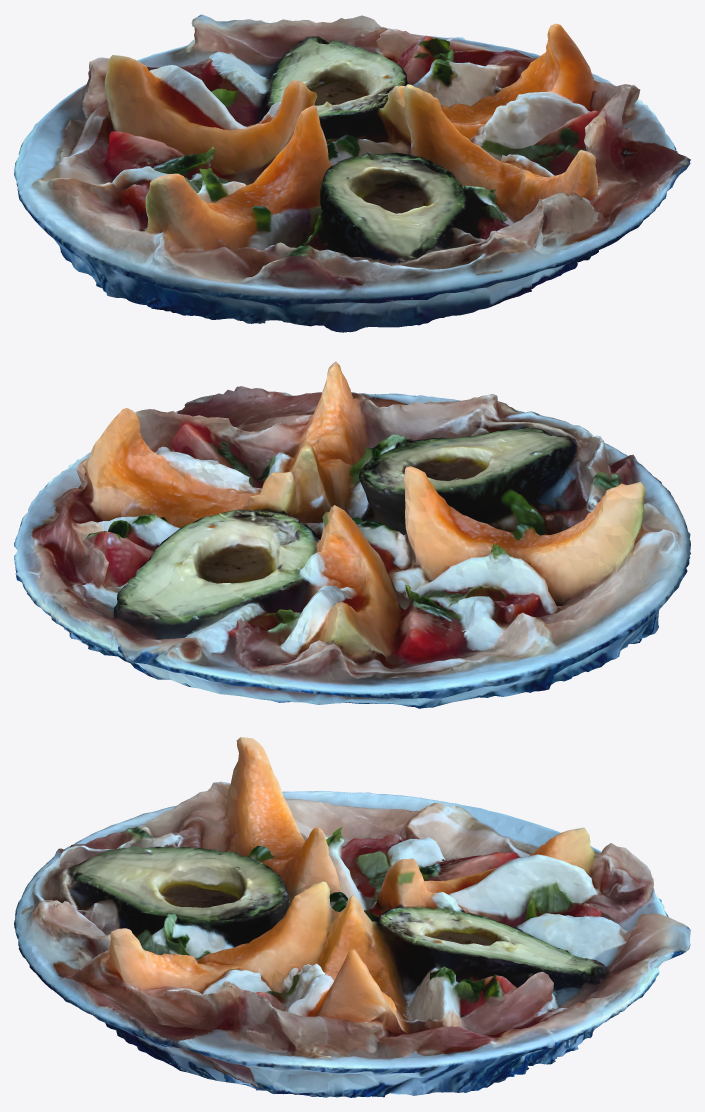
Rendered from melon-jamon.glb.
The picture shows the model from 3 angles, top to bottom: view 1: azimuth 30°, elevation 25°; view 2: azimuth 150°, elevation 25°; view 3: azimuth 270°, elevation 25°; orthographic projection. The views are drawn at different scales.
Parts seen in each view (by area): view 1: Object_4; view 2: Object_4; view 3: Object_4.
Part boxes in pixels (x1,y1,x2,y2): Object_4: (14,14,690,332); Object_4: (14,361,690,708); Object_4: (14,737,690,1097).
Bounding box in the file's own units: 0.2824 × 0.0604 × 0.29.
1 material, 1 textured.
